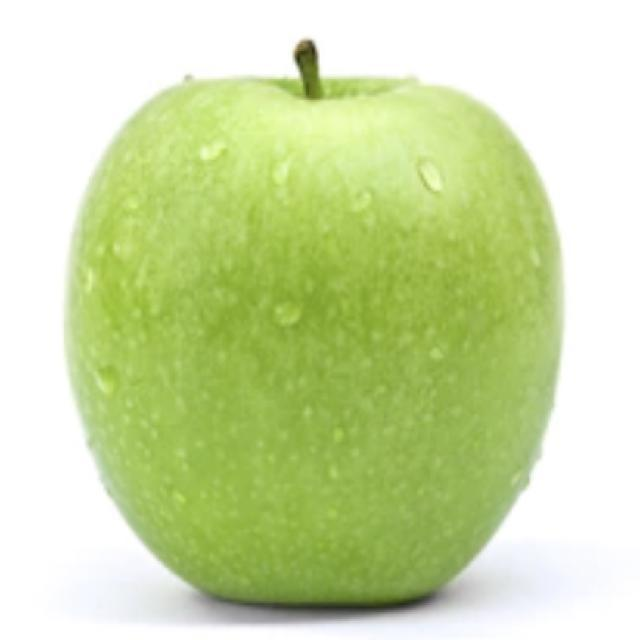Fresh Apple: (75, 67, 532, 598)
